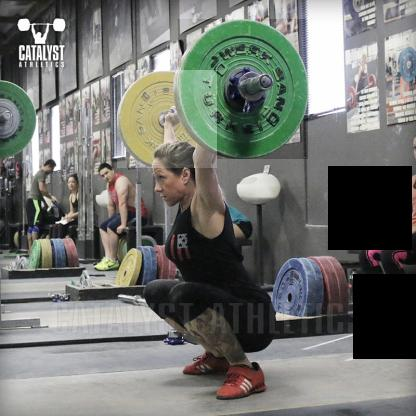barbell: (179, 20, 309, 160), (119, 72, 219, 170)
